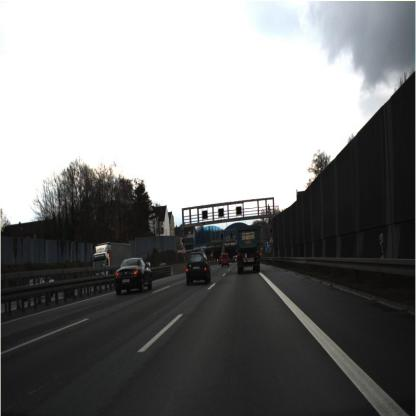danger: (268, 237, 275, 247)
